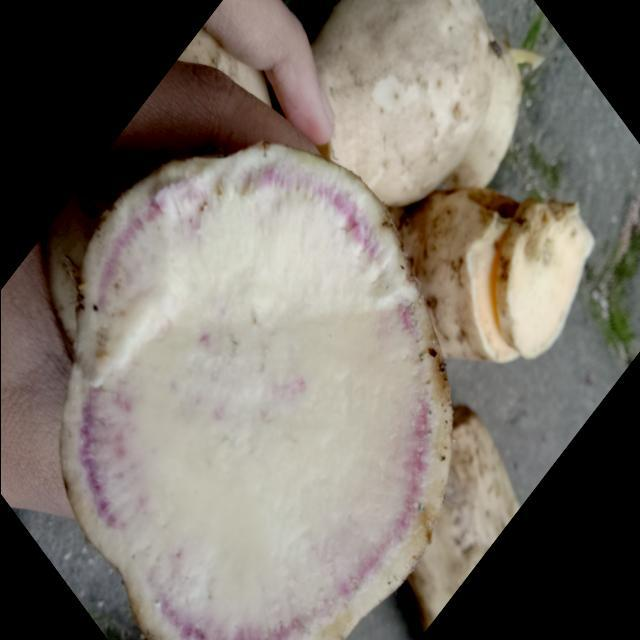Healthy Sweet Potato: (60, 147, 451, 638)
